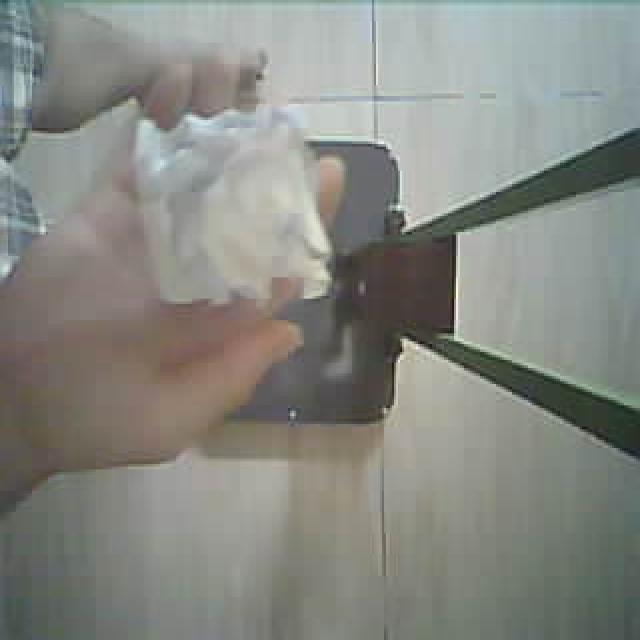Paper: (130, 108, 340, 308)
